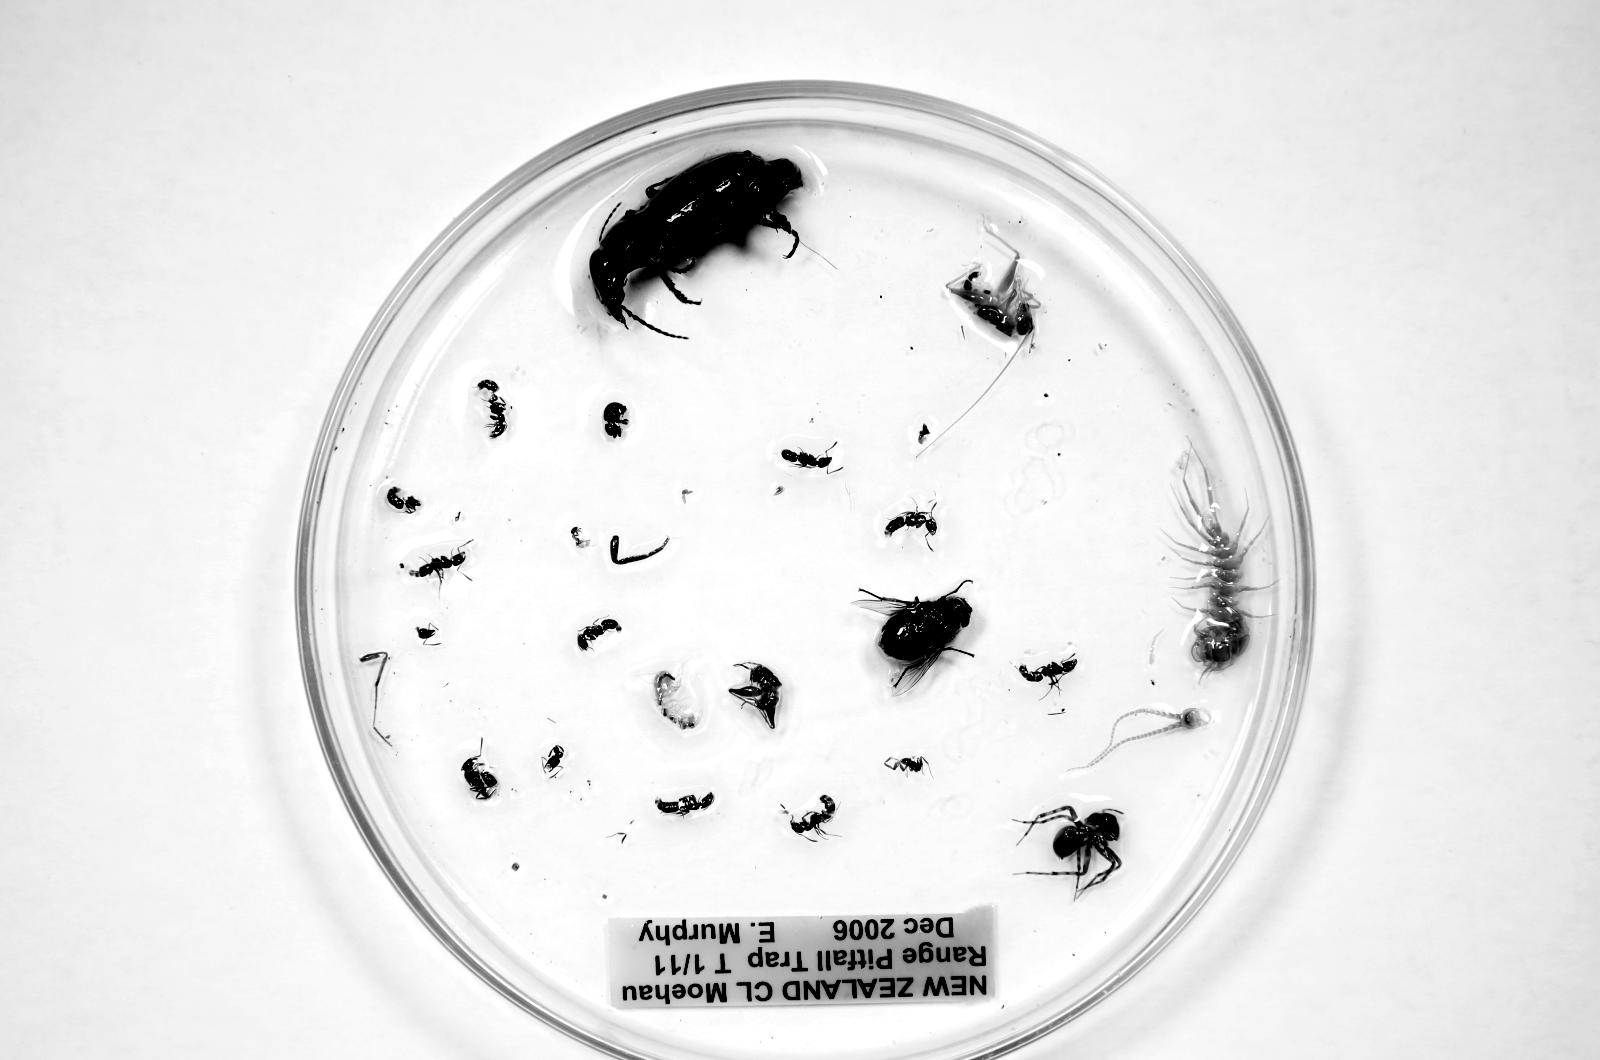amphipoda: (653, 670, 704, 730)
araneae: (1017, 804, 1121, 899)
carabidae: (589, 150, 801, 325)
chilopoda: (1165, 445, 1275, 678)
coleoptera: (602, 401, 630, 439)
diptera: (854, 581, 972, 693)
formicidae: (767, 435, 842, 476), (409, 549, 467, 588), (1018, 653, 1077, 691), (788, 794, 836, 840), (477, 380, 510, 439), (883, 509, 938, 538), (577, 616, 622, 652), (461, 756, 497, 800), (655, 791, 714, 816), (570, 526, 591, 549)
orthoptera: (945, 253, 1041, 337), (728, 662, 782, 729)
